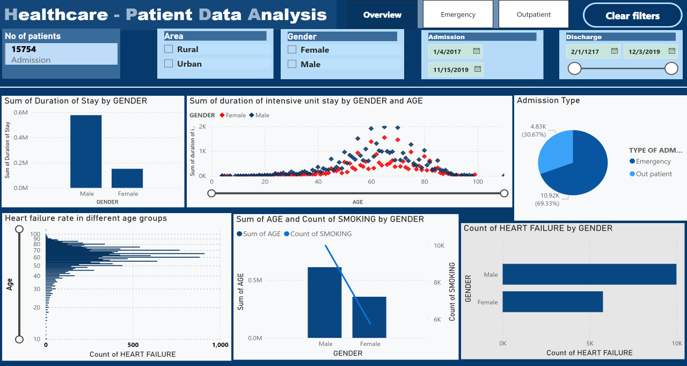

The dashboard page shown, as its layout file describes it:
{"tool":"powerbi","page":{"name":"Overview","canvas":[1280,720],"ordinal":0},"visuals":[{"type":"slicer","fields":{"Values":["Patient Details.D.O.A"]},"box":[784.8,59.9,227.4,100.2],"z":0,"group":"g1"},{"type":"pieChart","title":"Admission Type","fields":{"Y":["CountNonNull(Patient Details.Admission No)"],"Category":["Patient Details.TYPE OF ADMISSION-EMERGENCY/OPD"]},"box":[958.4,189.7,321.9,250],"z":1000},{"type":"clusteredBarChart","fields":{"Category":["Patient Details.GENDER"],"Y":["CountNonNull(Patient Details.HEART FAILURE)"]},"box":[859.3,445.4,416.7,271.6],"z":2000},{"type":"clusteredColumnChart","fields":{"Y":["Sum(Patient Details.Duration of Stay)"],"Category":["Patient Details.GENDER"]},"box":[2.9,191.1,340.5,222.7],"z":3000},{"type":"group","id":"g1","title":"Group 1","box":[784.8,59.9,486.5,100.2],"z":5000},{"type":"slicer","fields":{"Values":["Patient Details.D.O.D"]},"box":[1041.5,59.9,229.8,100.2],"z":6000,"group":"g1"},{"type":"shape","box":[0,157.7,1279.9,31.8],"z":6000},{"type":"textbox","box":[0,0,627.1,59.9],"z":7000},{"type":"slicer","fields":{"Values":["Patient Details.GENDER"]},"box":[523,58.7,229.8,100.2],"z":8000,"group":"g2"},{"type":"scatterChart","fields":{"Series":["Patient Details.GENDER"],"X":["Patient Details.AGE"],"Y":["Sum(Patient Details.duration of intensive unit stay)"]},"box":[347.7,191.1,606.4,222.7],"z":8000},{"type":"pageNavigator","box":[646.7,0,413.2,56.2],"z":9000},{"type":"slicer","fields":{"Values":["Patient Details.RURAL"]},"box":[293.2,57.5,216.4,100.2],"z":9000,"group":"g2"},{"type":"clusteredBarChart","title":"Heart failure rate in different age groups","fields":{"Category":["Patient Details.AGE"],"Y":["CountNonNull(Patient Details.HEART FAILURE)"]},"box":[4.3,425.3,426.8,294.6],"z":10000},{"type":"lineStackedColumnComboChart","fields":{"Category":["Patient Details.GENDER"],"Y":["Sum(Patient Details.AGE)"],"Y2":["CountNonNull(Patient Details.SMOKING )"]},"box":[435.4,426.8,419.6,290.3],"z":11000},{"type":"actionButton","box":[1085.5,4.9,185.8,50.1],"z":12000},{"type":"group","id":"g2","title":"Group 2","box":[293.2,57.5,459.6,101.5],"z":13000},{"type":"multiRowCard","title":"No of patients","fields":{"Values":["Patient Details.Admission No"]},"box":[3.7,57.5,220,100.2],"z":13001}]}

Visuals, with their boxes on the page's 1280x720 design canvas (x1, y1, x2, y2). These are canvas units, not pixel positions in the 687x366 screenshot, which may show the page scaled, cropped or inside an application window:
slicer - Patient Details.D.O.A: pyautogui.locateOnScreen(785, 60, 1012, 160)
"Admission Type" pieChart: pyautogui.locateOnScreen(958, 190, 1280, 440)
clusteredBarChart - Patient Details.GENDER x CountNonNull(Patient Details.HEART FAILURE): pyautogui.locateOnScreen(859, 445, 1276, 717)
clusteredColumnChart - Sum(Patient Details.Duration of Stay) x Patient Details.GENDER: pyautogui.locateOnScreen(3, 191, 343, 414)
"Group 1" group: pyautogui.locateOnScreen(785, 60, 1271, 160)
slicer - Patient Details.D.O.D: pyautogui.locateOnScreen(1042, 60, 1271, 160)
shape: pyautogui.locateOnScreen(0, 158, 1280, 190)
textbox: pyautogui.locateOnScreen(0, 0, 627, 60)
slicer - Patient Details.GENDER: pyautogui.locateOnScreen(523, 59, 753, 159)
scatterChart - Patient Details.GENDER x Patient Details.AGE: pyautogui.locateOnScreen(348, 191, 954, 414)
pageNavigator: pyautogui.locateOnScreen(647, 0, 1060, 56)
slicer - Patient Details.RURAL: pyautogui.locateOnScreen(293, 58, 510, 158)
"Heart failure rate in different age groups" clusteredBarChart: pyautogui.locateOnScreen(4, 425, 431, 720)
lineStackedColumnComboChart - Patient Details.GENDER x Sum(Patient Details.AGE): pyautogui.locateOnScreen(435, 427, 855, 717)
actionButton: pyautogui.locateOnScreen(1086, 5, 1271, 55)
"Group 2" group: pyautogui.locateOnScreen(293, 58, 753, 159)
"No of patients" multiRowCard: pyautogui.locateOnScreen(4, 58, 224, 158)
